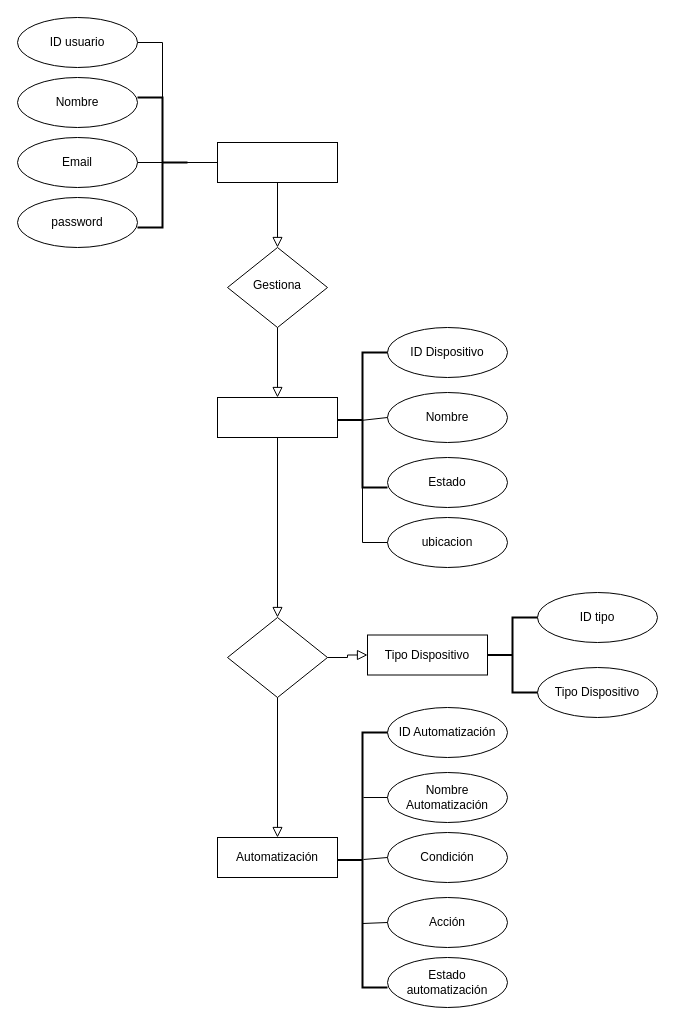
Image size: 675x1025. Some labels were removed from this diagram. Here are the shapes that lost their labels. From the top down, the centre of each, then its label:
(x=277, y=162): Usuario
(x=277, y=417): Dispositivo
(x=277, y=657): Tiene
